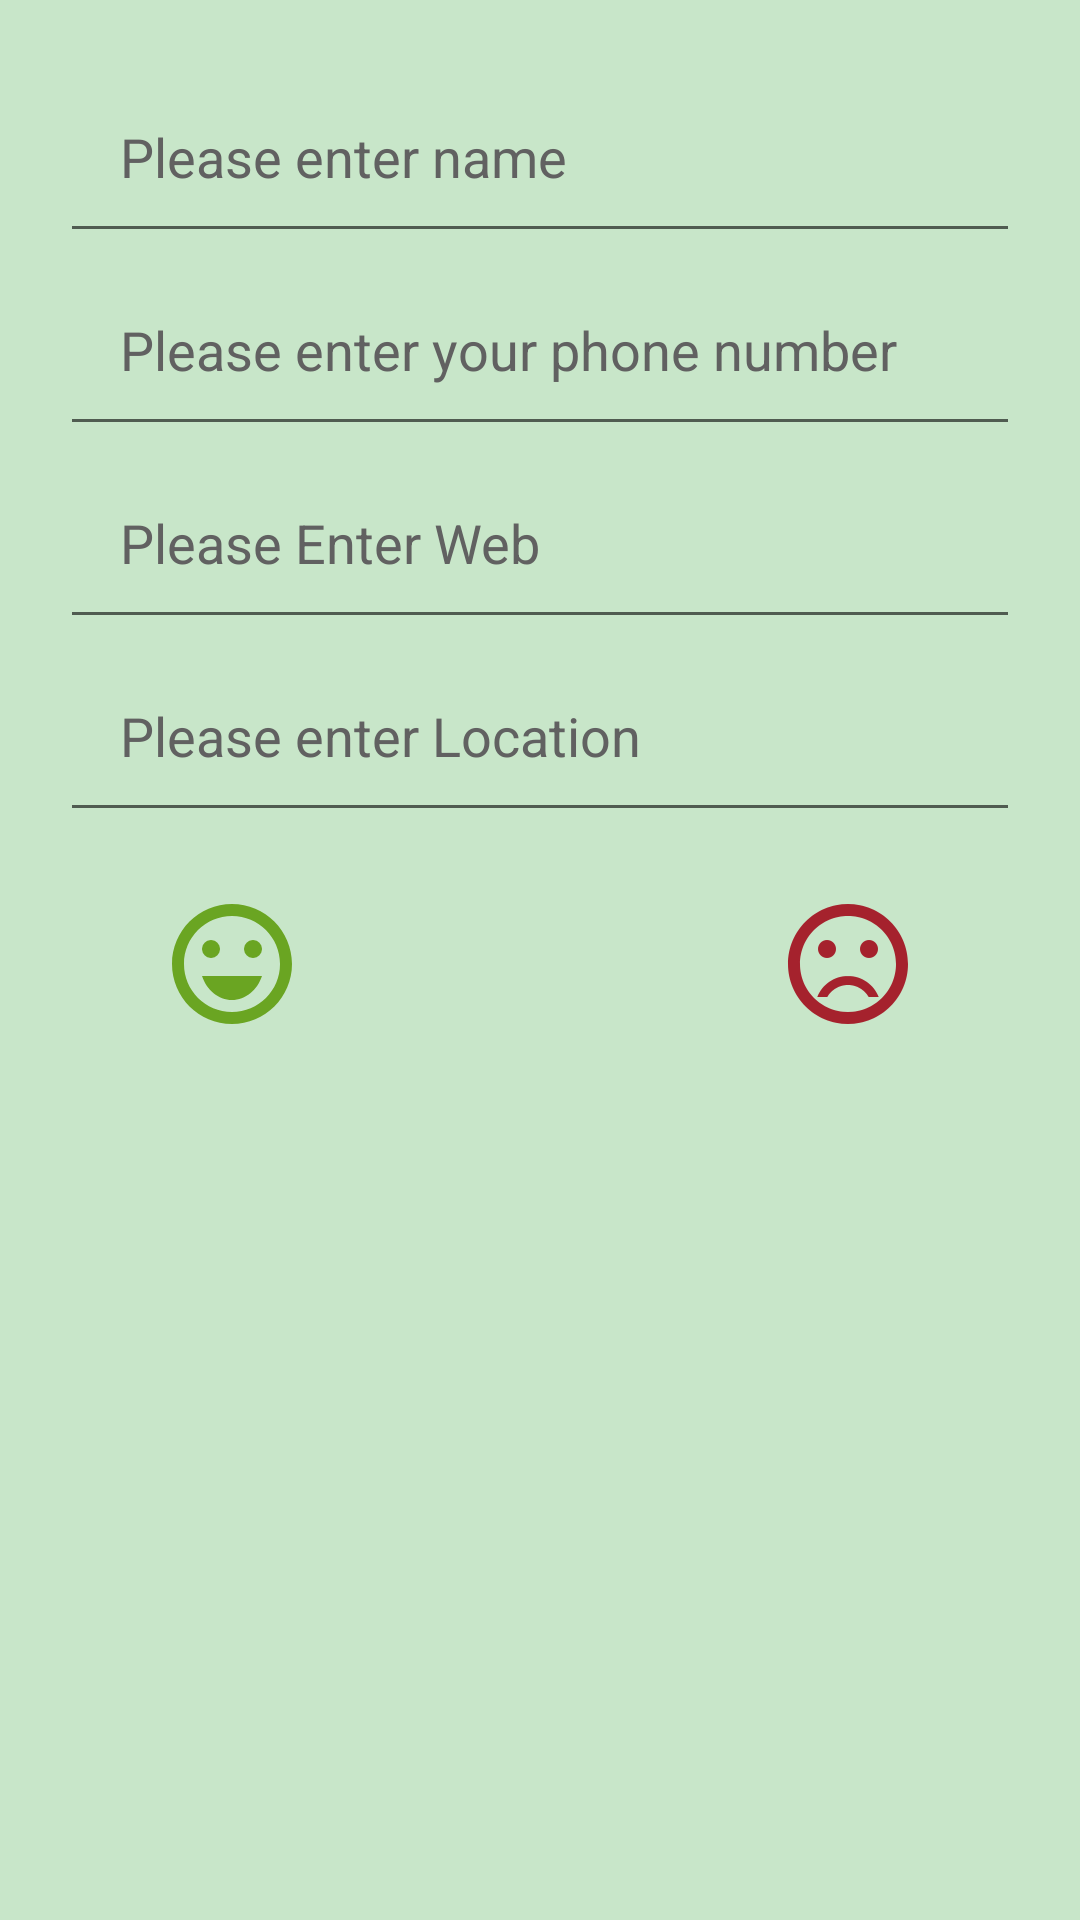

Icons on this 1080*1920 Android screen, each with its box as {"left": x1, "top": y1, "right": x2, "bottom": y2}:
Happy Face: {"left": 172, "top": 904, "right": 292, "bottom": 1024}
